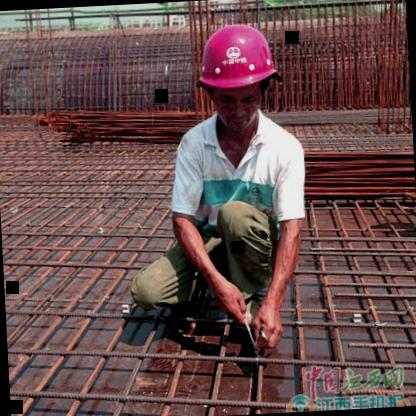helmet: (190, 6, 288, 144)
